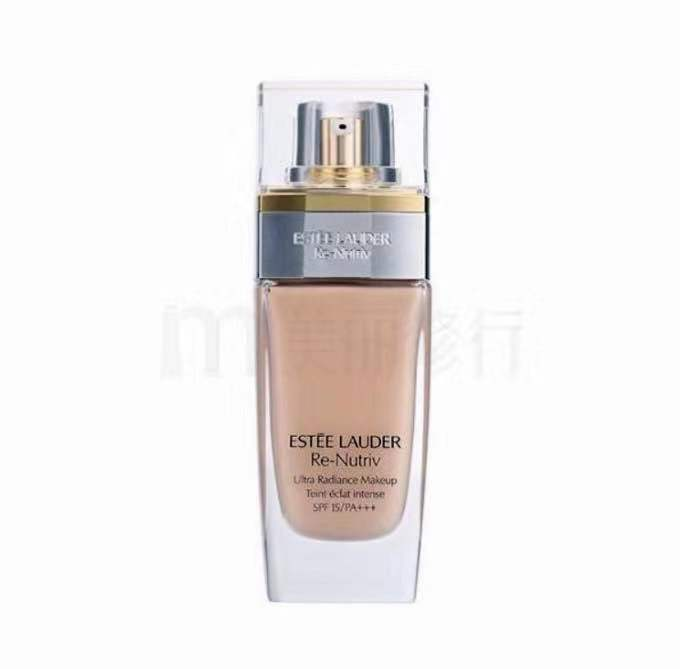cosmetic: (258, 83, 426, 605)
